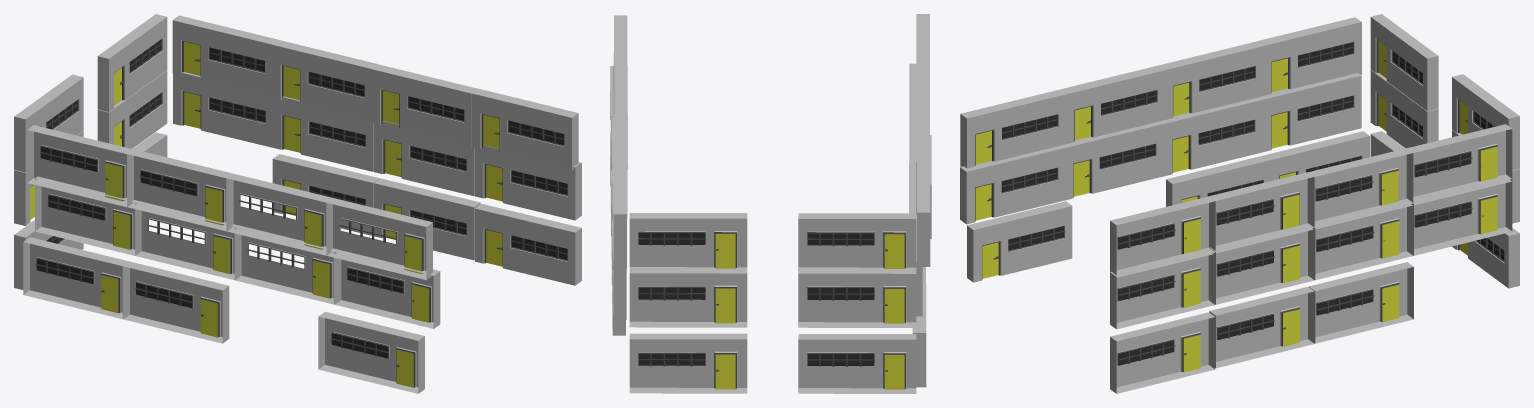
File: appart zone 2.fbx
The picture shows the model from 3 angles, left to right: view 1: azimuth 30°, elevation 25°; view 2: azimuth 150°, elevation 25°; view 3: azimuth 270°, elevation 25°; orthographic projection. The views are drawn at different scales.
Parts seen in each view (by area): view 1: MSH_facade_porte_appartement_01__94_, MSH_facade_porte_appartement_01__77_, MSH_facade_porte_appartement_01__35_, MSH_facade_porte_appartement_01__93_, MSH_facade_porte_appartement_01__42_, MSH_facade_porte_appartement_01__76_, MSH_facade_porte_appartement_01__90_, MSH_facade_porte_appartement_01__92_, MSH_facade_porte_appartement_01__91_, MSH_facade_porte_appartement_01__21_, MSH_facade_porte_appartement_01__23_, MSH_facade_porte_appartement_01__24_ (+16 smaller); view 2: MSH_facade_porte_appartement_01__87_, MSH_facade_porte_appartement_01__88_, MSH_facade_porte_appartement_01__89_, MSH_facade_porte_appartement_01__86_, MSH_facade_porte_appartement_01__85_, MSH_facade_porte_appartement_01__84_, MSH_facade_porte_appartement_01__92_, MSH_facade_porte_appartement_01__42_, MSH_facade_porte_appartement_01__77_, MSH_facade_porte_appartement_01__93_, MSH_facade_porte_appartement_01__17_, MSH_facade_porte_appartement_01__91_ (+9 smaller); view 3: MSH_facade_porte_appartement_01__35_, MSH_facade_porte_appartement_01__94_, MSH_facade_porte_appartement_01__18_, MSH_facade_porte_appartement_01__17_, MSH_facade_porte_appartement_01__24_, MSH_facade_porte_appartement_01__20_, MSH_facade_porte_appartement_01__19_, MSH_facade_porte_appartement_01__27_, MSH_facade_porte_appartement_01__16_, MSH_facade_porte_appartement_01__92_, MSH_facade_porte_appartement_01__93_, MSH_facade_porte_appartement_01__43_ (+15 smaller).
Part boxes in pixels (x1,y1,x2,y2): MSH_facade_porte_appartement_01__94_: [318, 311, 424, 393]; MSH_facade_porte_appartement_01__77_: [23, 237, 129, 319]; MSH_facade_porte_appartement_01__35_: [475, 203, 581, 285]; MSH_facade_porte_appartement_01__93_: [472, 88, 578, 170]; MSH_facade_porte_appartement_01__42_: [27, 125, 133, 207]; MSH_facade_porte_appartement_01__76_: [122, 261, 229, 343]; MSH_facade_porte_appartement_01__90_: [371, 64, 477, 146]; MSH_facade_porte_appartement_01__92_: [172, 15, 278, 97]; MSH_facade_porte_appartement_01__91_: [272, 40, 378, 121]; MSH_facade_porte_appartement_01__21_: [127, 149, 233, 231]; MSH_facade_porte_appartement_01__23_: [226, 173, 332, 255]; MSH_facade_porte_appartement_01__24_: [327, 198, 432, 279]; MSH_facade_porte_appartement_01__87_: [629, 333, 747, 393]; MSH_facade_porte_appartement_01__88_: [798, 213, 916, 273]; MSH_facade_porte_appartement_01__89_: [629, 213, 747, 272]; MSH_facade_porte_appartement_01__86_: [798, 334, 916, 393]; MSH_facade_porte_appartement_01__85_: [629, 272, 747, 327]; MSH_facade_porte_appartement_01__84_: [798, 273, 916, 327]; MSH_facade_porte_appartement_01__92_: [613, 164, 626, 268]; MSH_facade_porte_appartement_01__42_: [917, 163, 930, 266]; MSH_facade_porte_appartement_01__77_: [912, 283, 926, 387]; MSH_facade_porte_appartement_01__93_: [613, 15, 627, 114]; MSH_facade_porte_appartement_01__17_: [612, 216, 626, 319]; MSH_facade_porte_appartement_01__91_: [613, 114, 627, 218]; MSH_facade_porte_appartement_01__35_: [1110, 312, 1215, 393]; MSH_facade_porte_appartement_01__94_: [967, 201, 1072, 282]; MSH_facade_porte_appartement_01__18_: [1110, 247, 1215, 329]; MSH_facade_porte_appartement_01__17_: [1407, 174, 1512, 255]; MSH_facade_porte_appartement_01__24_: [960, 89, 1065, 168]; MSH_facade_porte_appartement_01__20_: [1209, 286, 1314, 368]; MSH_facade_porte_appartement_01__19_: [1308, 262, 1413, 343]; MSH_facade_porte_appartement_01__27_: [960, 145, 1064, 224]; MSH_facade_porte_appartement_01__16_: [1209, 223, 1314, 304]; MSH_facade_porte_appartement_01__92_: [1406, 124, 1512, 205]; MSH_facade_porte_appartement_01__93_: [1110, 196, 1215, 277]; MSH_facade_porte_appartement_01__43_: [1259, 73, 1361, 152].
Bounding box in the file's own units: 66.13 × 25.06 × 74.61.
